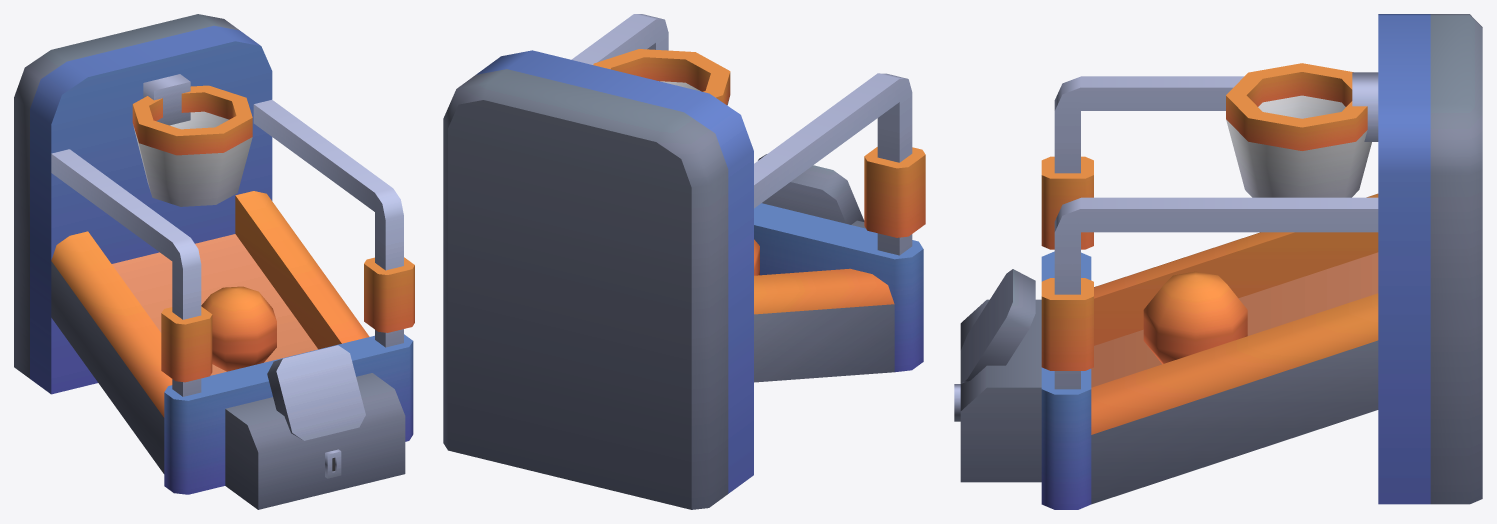
The model's file is arcade.basketball_game.glb.
3 views of the same model, side by side, from view 1: azimuth 30°, elevation 25°; view 2: azimuth 150°, elevation 25°; view 3: azimuth 270°, elevation 25° (orthographic). The views are drawn at different scales.
Parts seen in each view (by area): view 1: basketball-game, ball; view 2: basketball-game; view 3: basketball-game, ball.
Part boxes in pixels (left/top/right/bottom): basketball-game: left=14, top=14, right=414, bottom=509; ball: left=201, top=286, right=276, bottom=371; basketball-game: left=443, top=14, right=925, bottom=509; basketball-game: left=954, top=14, right=1482, bottom=509; ball: left=1143, top=271, right=1247, bottom=364.
Bounding box in the file's own units: 1.61 × 1.99 × 2.51.
Materials: 1 (1 with a texture image).
